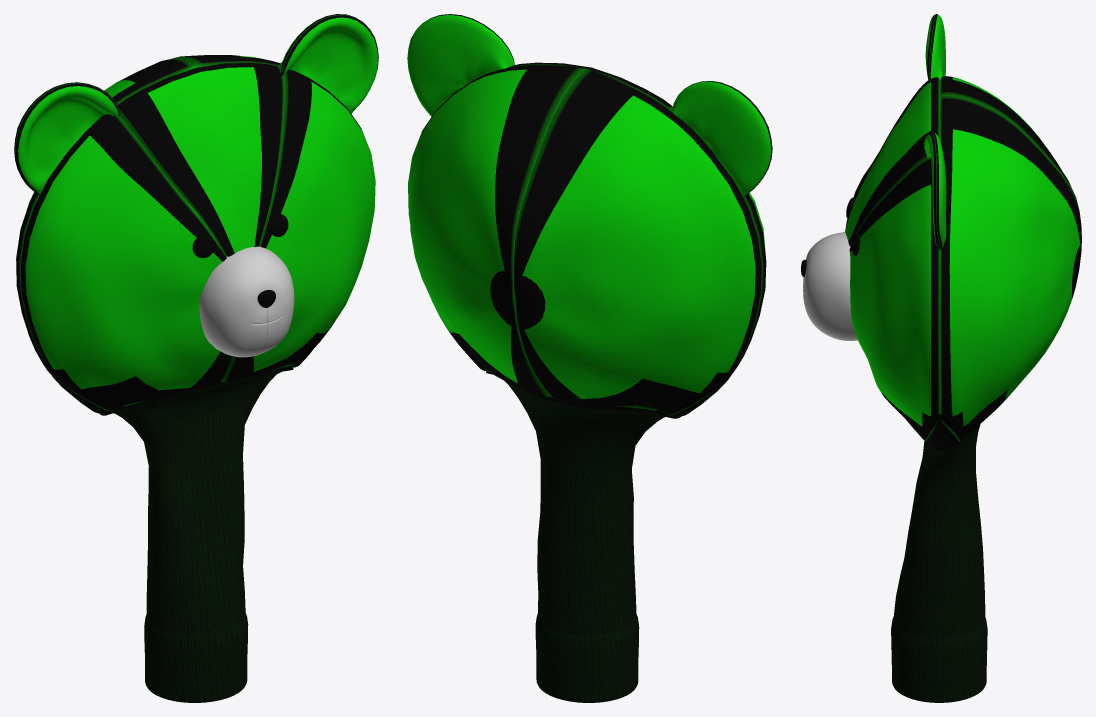
Rendered from P9_type1.glb.
3 views of the same model, side by side, from view 1: azimuth 30°, elevation 25°; view 2: azimuth 150°, elevation 25°; view 3: azimuth 270°, elevation 25° (orthographic). The views are drawn at different scales.
Visible parts, largest first — view 1: Ear_L2, Body_Base_Glove; view 2: Ear_L2, Body_Base_Glove; view 3: Ear_L2, Body_Base_Glove.
Part boxes in pixels (x1=…): Ear_L2: x1=14, y1=14, x2=378, y2=413; Body_Base_Glove: x1=99, y1=366, x2=293, y2=702; Ear_L2: x1=407, y1=14, x2=772, y2=417; Body_Base_Glove: x1=486, y1=370, x2=681, y2=702; Ear_L2: x1=803, y1=14, x2=1081, y2=449; Body_Base_Glove: x1=891, y1=424, x2=987, y2=702.
Size of the model in its own units: 0.0417 by 0.0695 by 0.0292.
3 materials, 1 textured.
